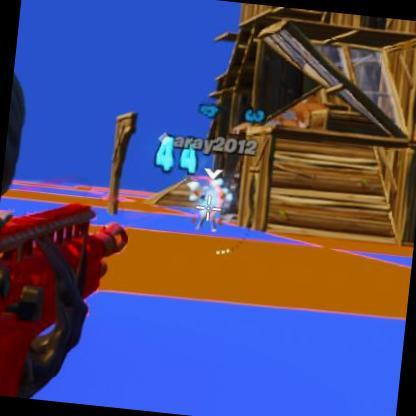person: (195, 181, 223, 234)
